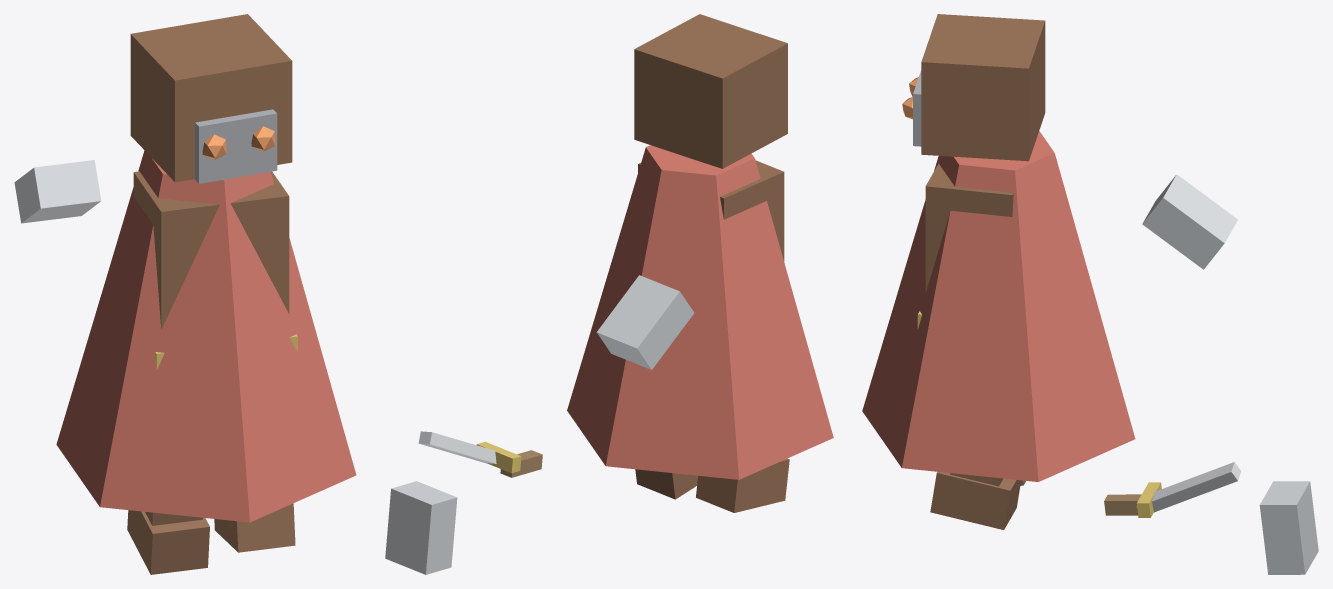
File: npcpose_raider_attack_10.glb
3 views of the same model, side by side, from view 1: azimuth 30°, elevation 25°; view 2: azimuth 150°, elevation 25°; view 3: azimuth 270°, elevation 25° (orthographic). The views are drawn at different scales.
Parts seen in each view (by area): view 1: npcpose; view 2: npcpose; view 3: npcpose.
Part boxes in pixels (x1,y1,x2,y2): npcpose: (14,14,356,574); npcpose: (385,14,833,574); npcpose: (862,14,1318,574).
Size of the model in its own units: 1.04 by 1.58 by 1.43.
